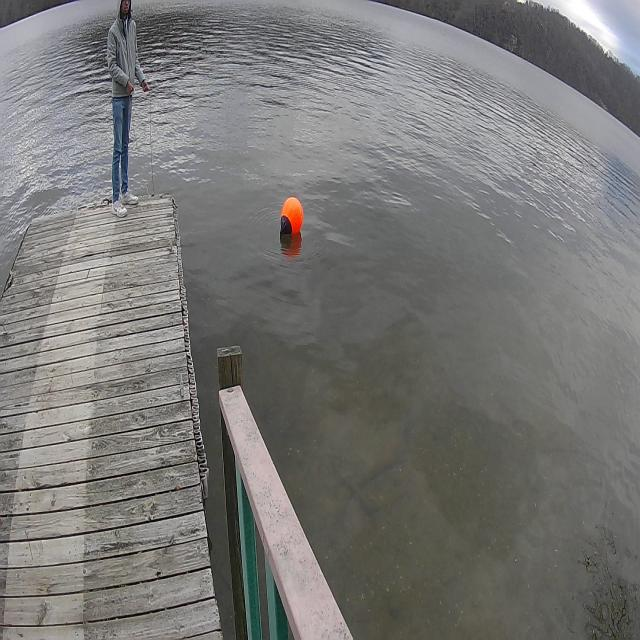Buoy: (278, 191, 305, 249)
